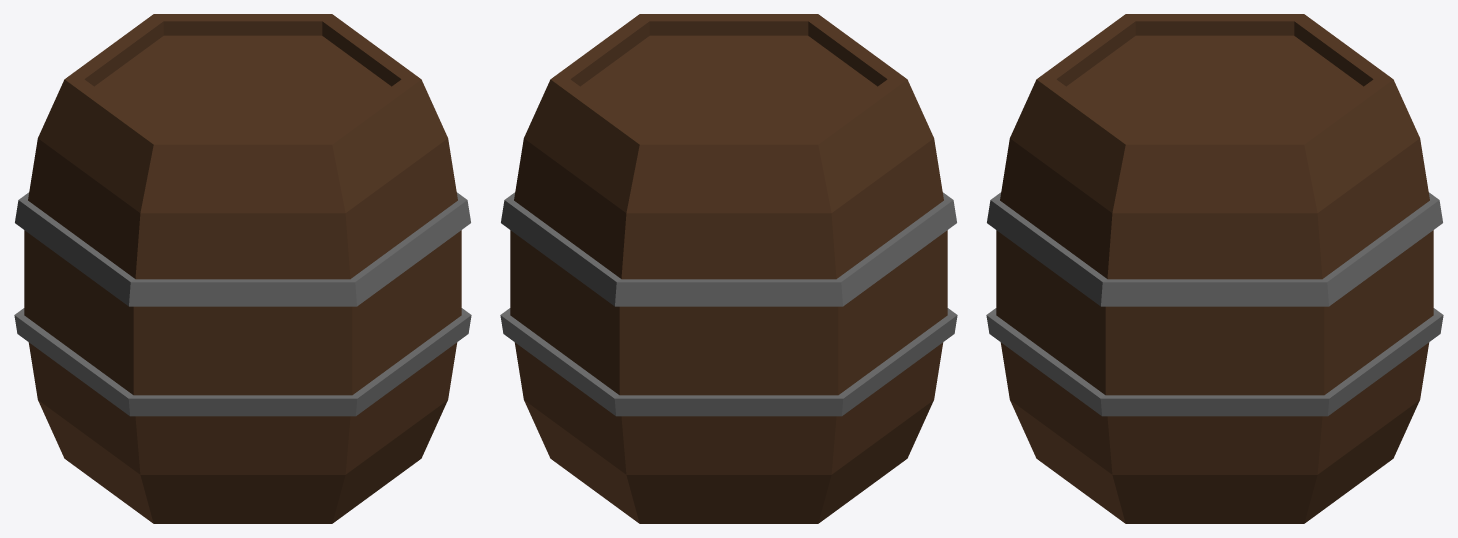
The model's file is barrel.fbx.
3 views of the same model, side by side, from view 1: azimuth 30°, elevation 25°; view 2: azimuth 150°, elevation 25°; view 3: azimuth 270°, elevation 25° (orthographic).
Parts seen in each view (by area): view 1: Cylinder.001; view 2: Cylinder.001; view 3: Cylinder.001.
Boxes of the visible parts, x1=… form: Cylinder.001: x1=14, y1=14, x2=471, y2=523; Cylinder.001: x1=500, y1=14, x2=957, y2=523; Cylinder.001: x1=986, y1=14, x2=1443, y2=523.
Size of the model in its own units: 54.26 by 57.35 by 62.65.
